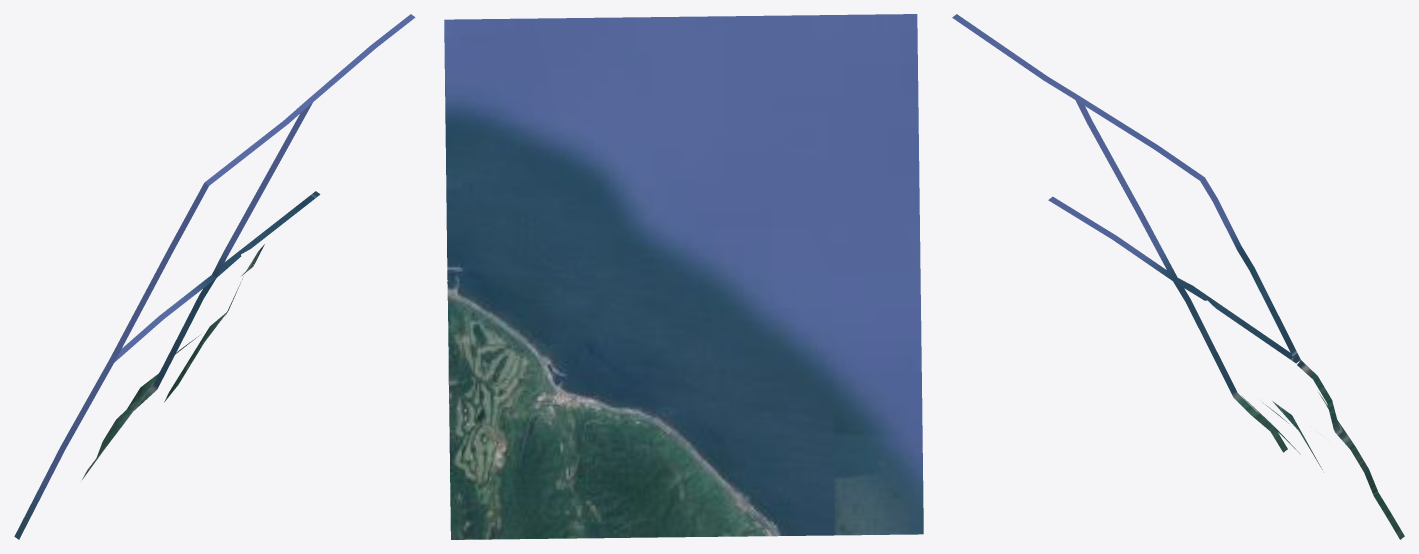
3 renders of one model, left to right at view 1: azimuth 30°, elevation 25°; view 2: azimuth 150°, elevation 25°; view 3: azimuth 270°, elevation 25°, orthographic. The views are drawn at different scales.
Size of the model in its own units: 4906 by 4426 by 4327.
1 material, 1 textured.
